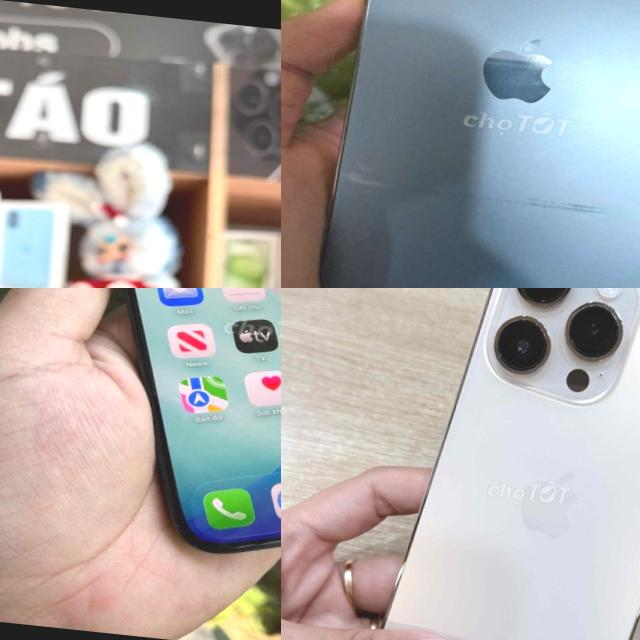gen_12_13: (304, 0, 640, 288)
gen_14: (362, 288, 640, 640)
gen_15: (10, 288, 281, 574), (0, 101, 103, 288)
scratch: (320, 140, 640, 267)
